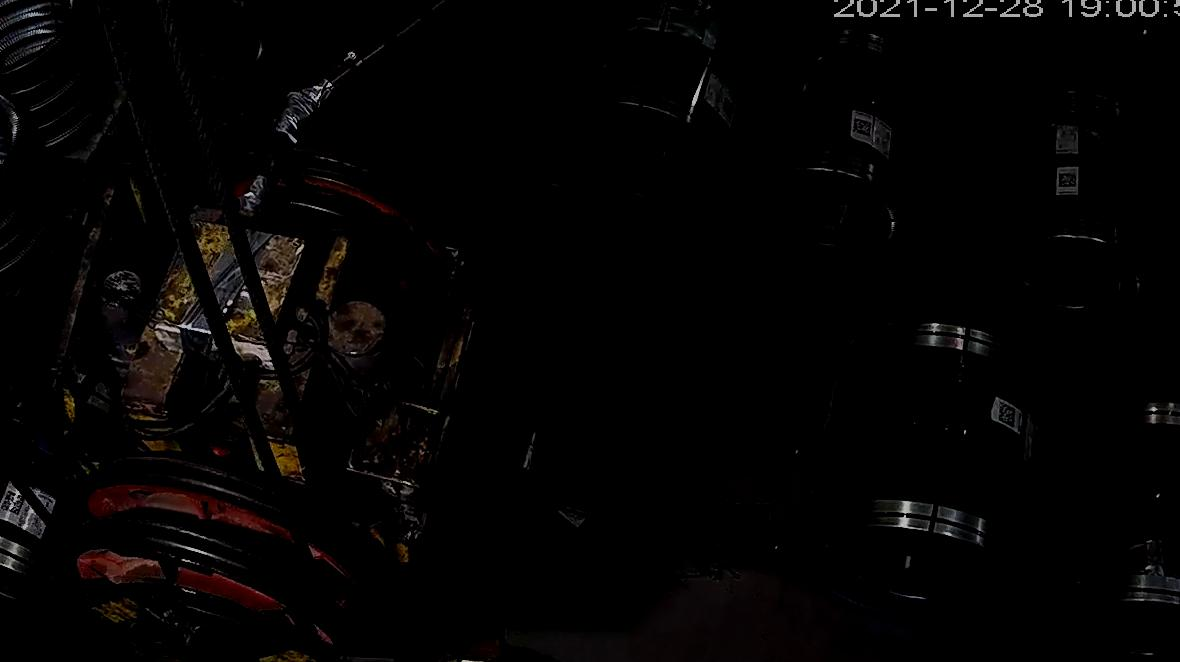data matrix: (1, 489, 27, 518), (997, 401, 1020, 430), (853, 117, 874, 139), (1057, 171, 1080, 191)
